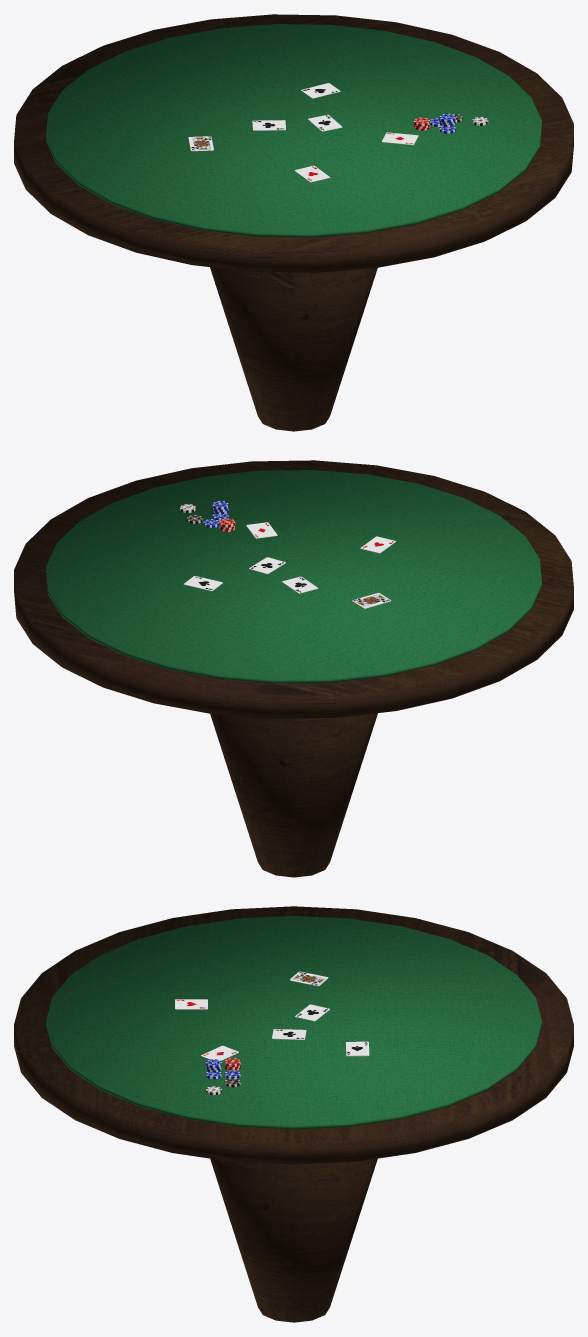
Rendered from poker.glb.
3 views of the same model, one above another, from view 1: azimuth 30°, elevation 25°; view 2: azimuth 150°, elevation 25°; view 3: azimuth 270°, elevation 25° (orthographic).
Visible parts, largest first — view 1: Mesa_Carteado_Feltro, Mesa_Carteado_Borda, Mesa_Carteado_Pe; view 2: Mesa_Carteado_Feltro, Mesa_Carteado_Borda, Mesa_Carteado_Pe; view 3: Mesa_Carteado_Feltro, Mesa_Carteado_Borda, Mesa_Carteado_Pe.
Part boxes in pixels (x1,y1,x2,y2): Mesa_Carteado_Feltro: (46, 24, 541, 237); Mesa_Carteado_Borda: (14, 14, 573, 272); Mesa_Carteado_Pe: (210, 267, 377, 431); Mesa_Carteado_Feltro: (46, 470, 541, 683); Mesa_Carteado_Borda: (14, 460, 573, 718); Mesa_Carteado_Pe: (210, 713, 377, 877); Mesa_Carteado_Feltro: (46, 916, 541, 1129); Mesa_Carteado_Borda: (14, 906, 573, 1164); Mesa_Carteado_Pe: (210, 1158, 377, 1322).
Size of the model in its own units: 1.4 by 0.8277 by 1.4.
7 materials, 7 textured.
